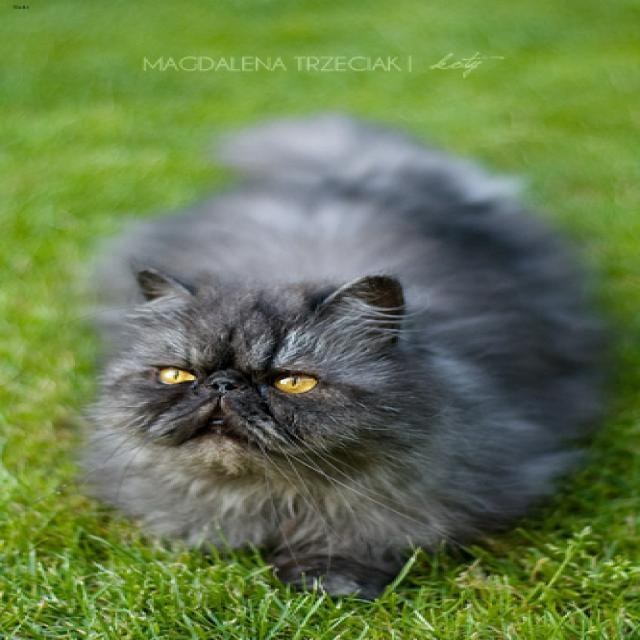Persian: (94, 260, 442, 484)
